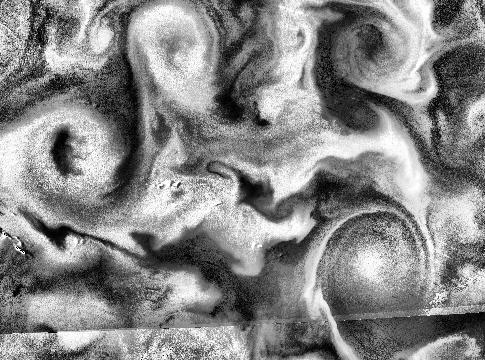AE: (10, 98, 126, 223), (310, 206, 435, 307), (337, 11, 424, 91)
